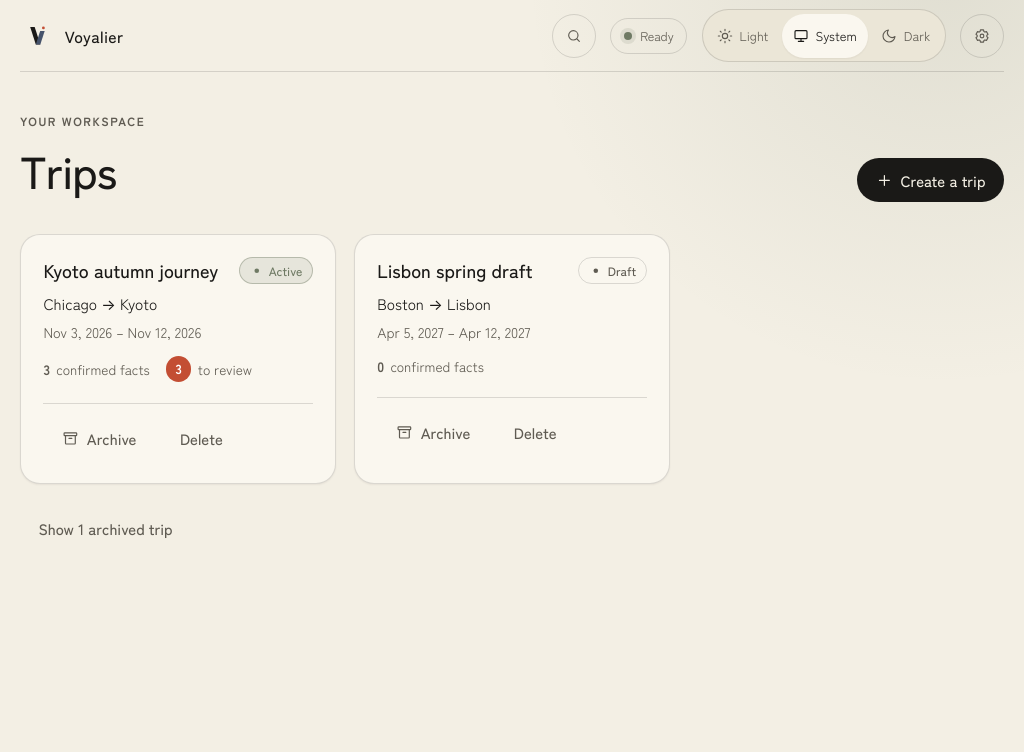
Scenario: User-flow gap fixes › never strands focus on the body when a dialog closes
This screenshot has width=1024, height=752.
Click the button with aria-label "Open Kyoto autumn journey" at (131, 270), box x1=43 y1=257 x2=218 y2=283
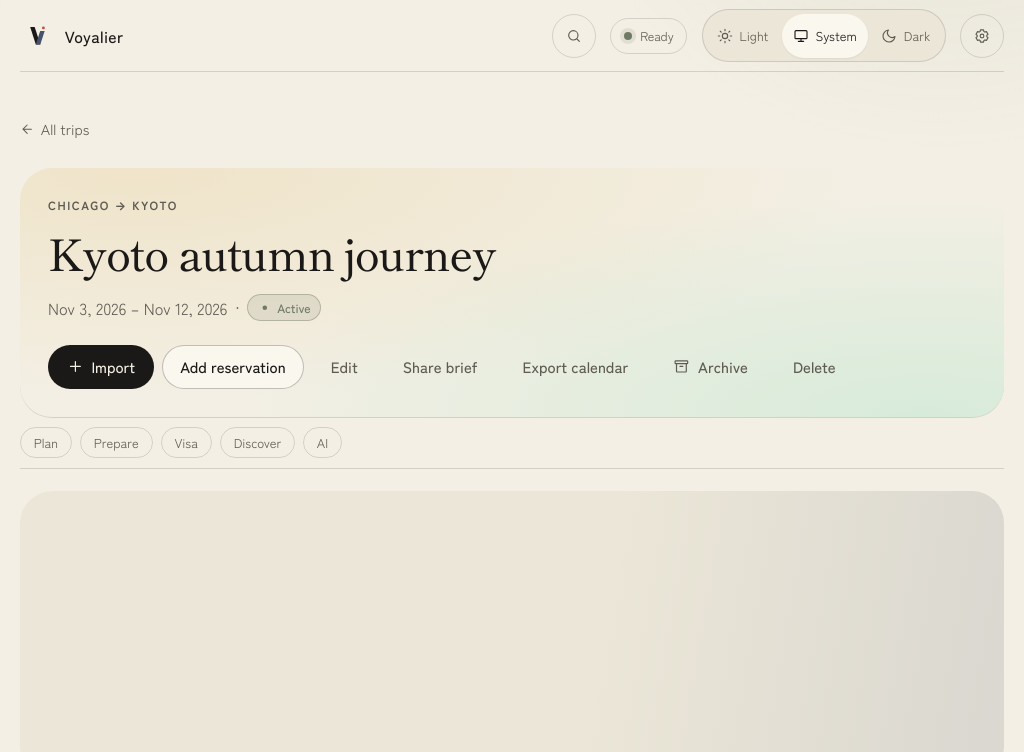
Expected: the heading "Kyoto autumn journey" is shown, x1=48 y1=221 x2=496 y2=283
Click the button "Edit" at (344, 367), box x1=312 y1=345 x2=376 y2=389
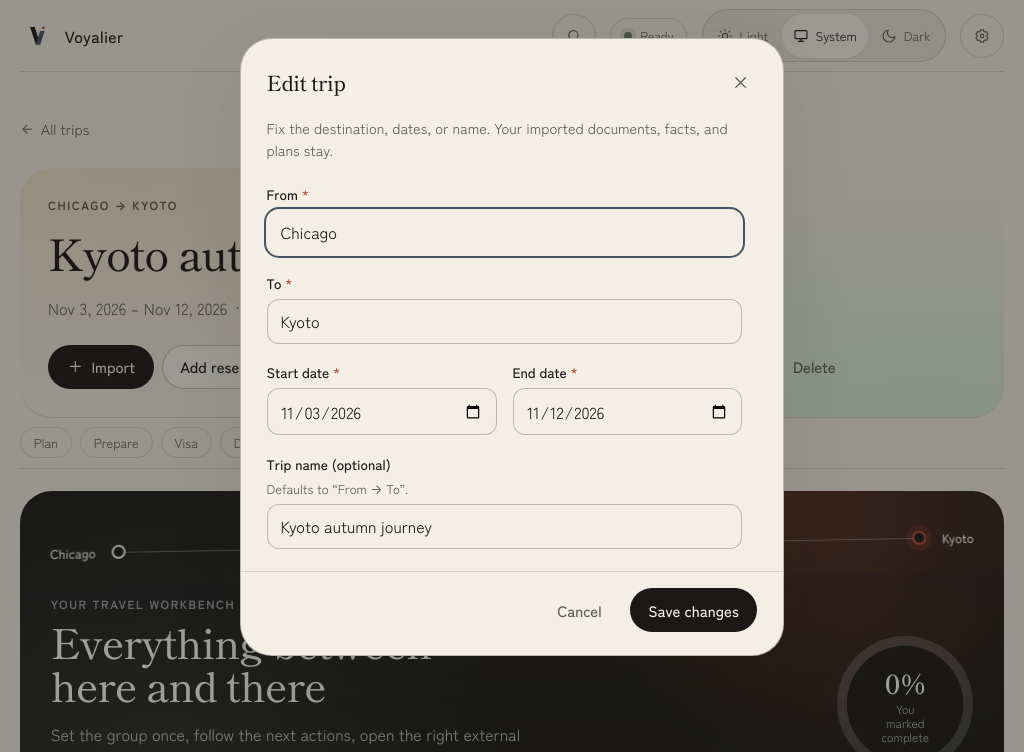
Click the button "Cancel" at (579, 610), box x1=539 y1=588 x2=620 y2=632
(page scrolled)
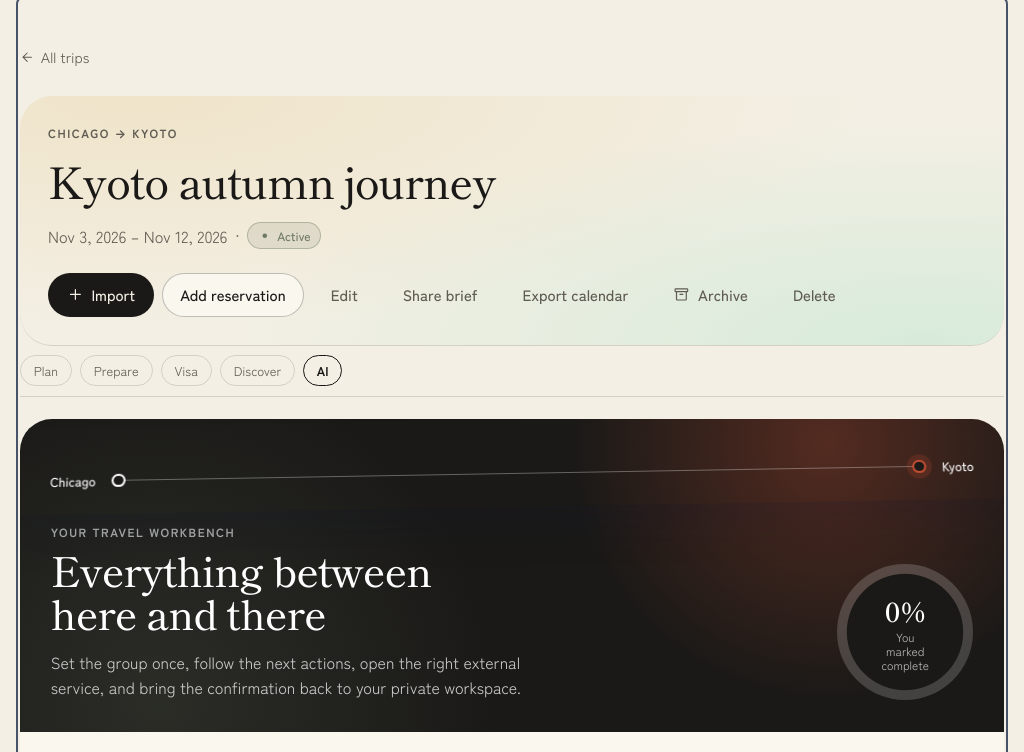
Now the dialog is gone
Click the button "Edit" at (344, 295), box x1=312 y1=273 x2=376 y2=317
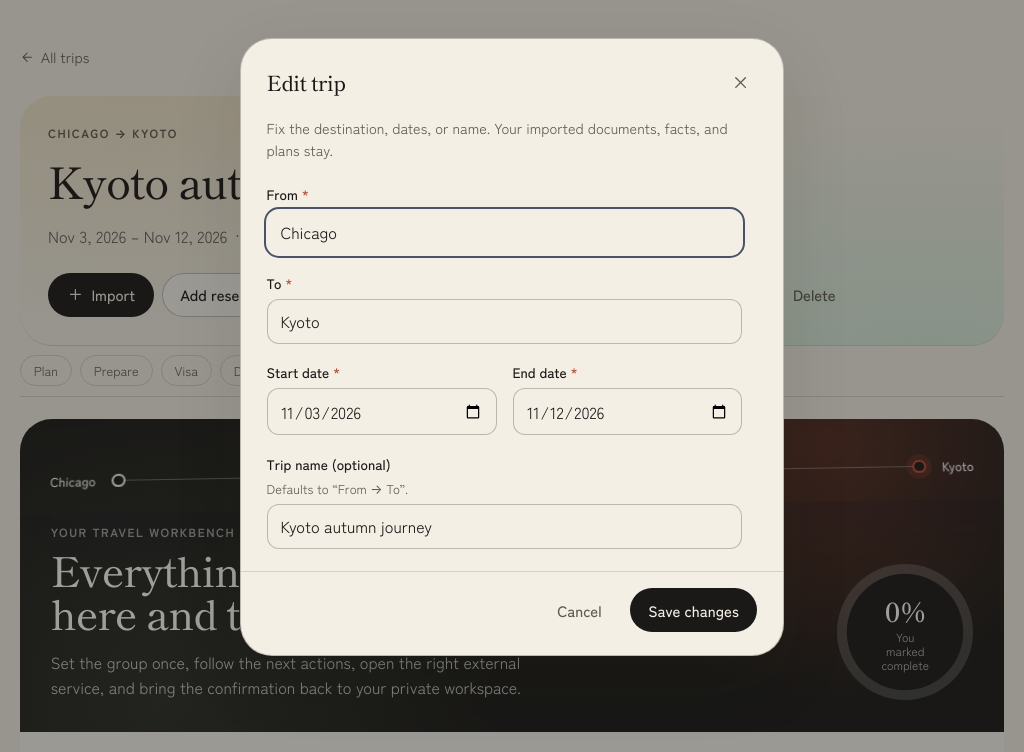
Press Escape in the dialog "Edit trip", box x1=240 y1=38 x2=784 y2=656
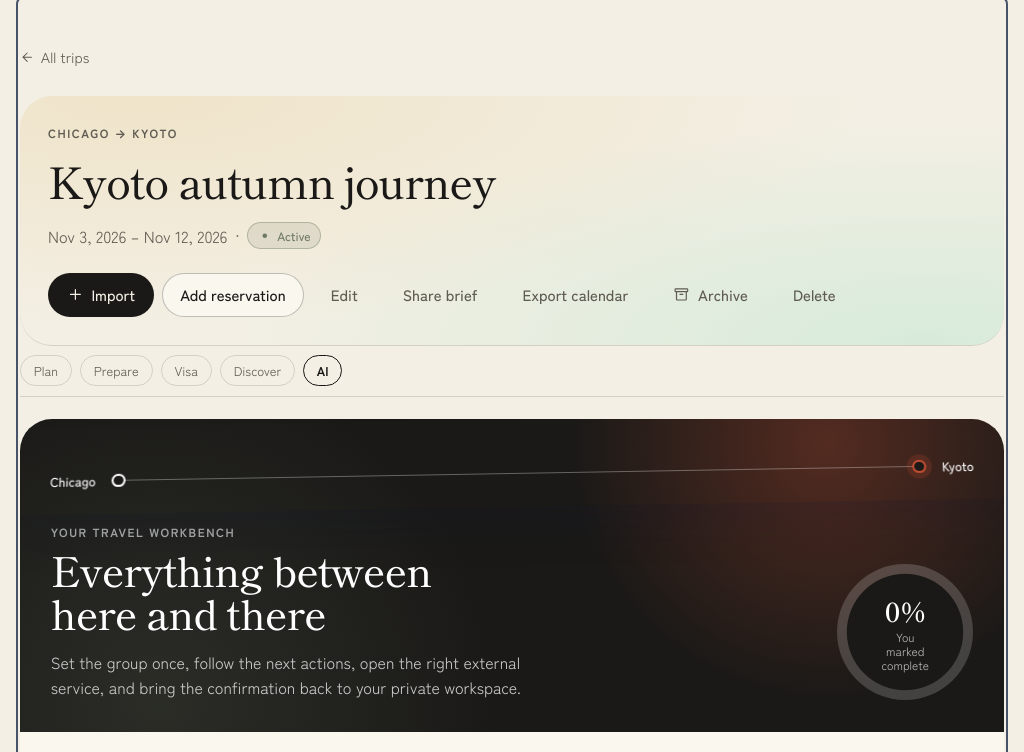
Now the dialog is gone
